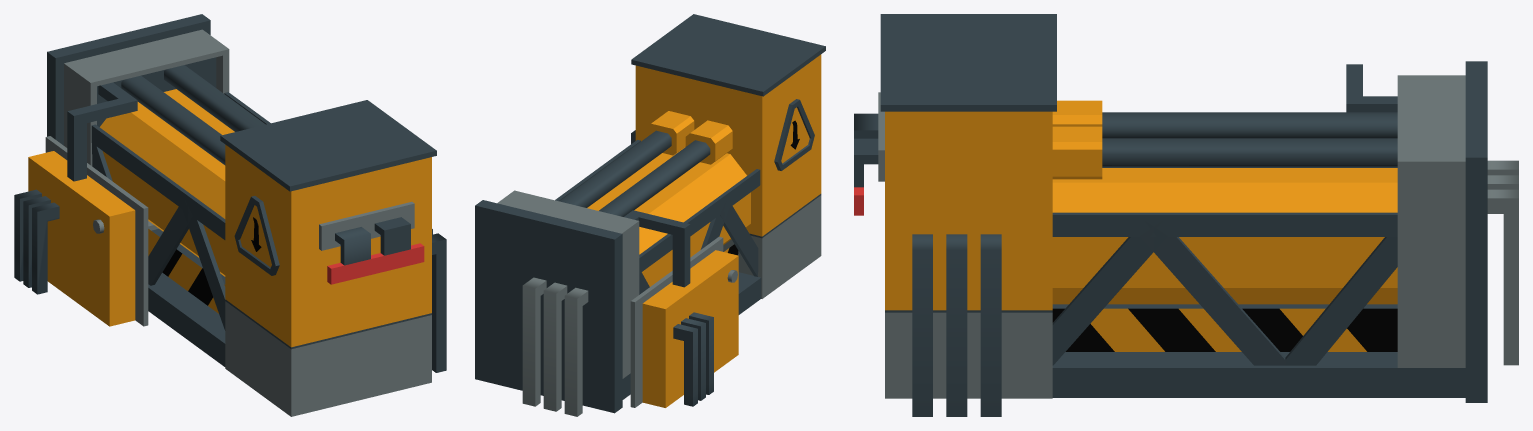
The model's file is Power_Station_01_LV3.fbx.
3 renders of one model, left to right at view 1: azimuth 30°, elevation 25°; view 2: azimuth 150°, elevation 25°; view 3: azimuth 270°, elevation 25°, orthographic. The views are drawn at different scales.
Visible parts, largest first — view 1: Power_Station_01_LV3; view 2: Power_Station_01_LV3; view 3: Power_Station_01_LV3.
Boxes of the visible parts, x1,y1,x2,y2 form: Power_Station_01_LV3: (14,14,446,416); Power_Station_01_LV3: (475,14,825,416); Power_Station_01_LV3: (854,14,1518,416).
Bounding box in the file's own units: 243 × 234 × 472.
